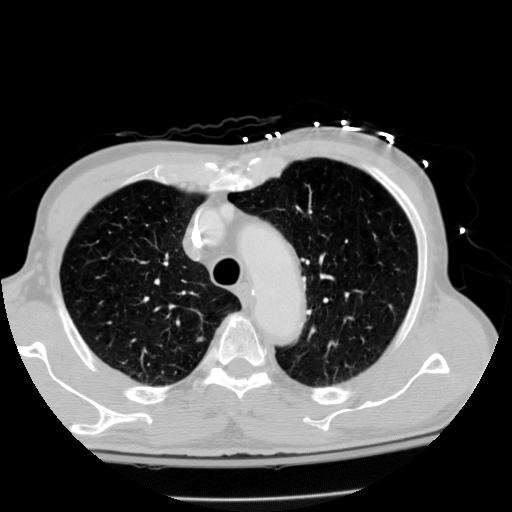nodule: (194, 333, 206, 345)
